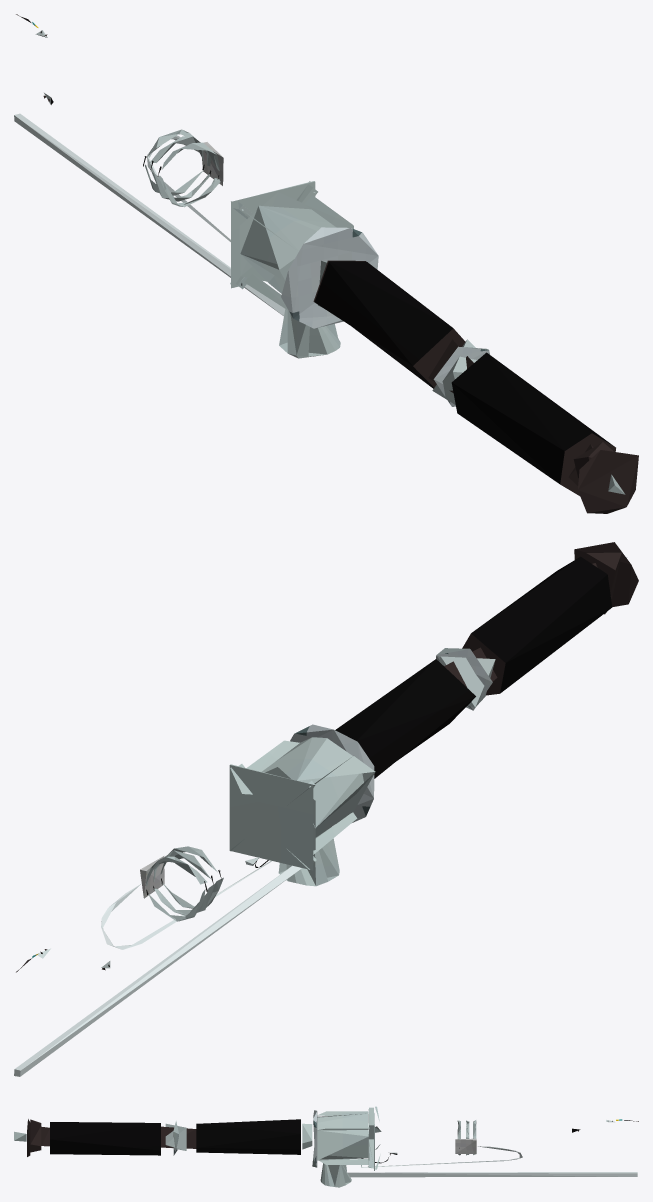
File: pt-11m00000000637359-geode.glb
The picture shows the model from 3 angles, top to bottom: view 1: azimuth 30°, elevation 25°; view 2: azimuth 150°, elevation 25°; view 3: azimuth 270°, elevation 25°; orthographic projection. The views are drawn at different scales.
Visible parts, largest first — view 1: Node; view 2: Node; view 3: Node.
Boxes of the visible parts, <box> form: Node: <box>14,14,638,513</box>; Node: <box>14,542,638,1076</box>; Node: <box>14,1106,638,1187</box>.
Size of the model in its own units: 0.5439 by 0.7204 by 5.92.
1 material, 1 textured.
